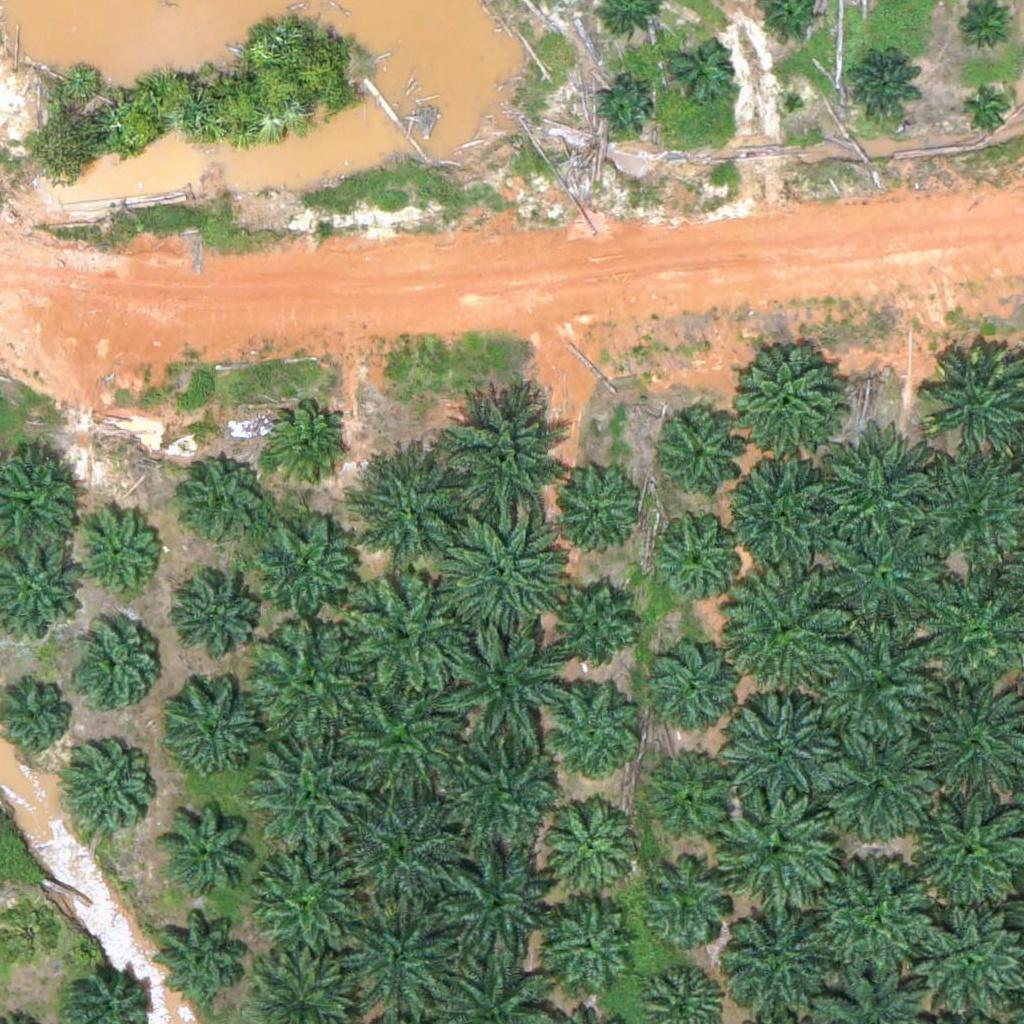Kelapa_Sawit: (811, 856, 936, 982), (818, 623, 943, 749), (823, 515, 948, 641), (817, 435, 942, 561), (721, 455, 846, 581), (720, 684, 845, 810), (716, 789, 841, 915), (430, 838, 555, 964), (443, 388, 568, 514), (438, 509, 563, 635), (439, 621, 564, 747), (443, 736, 568, 862), (352, 444, 477, 570), (347, 569, 472, 695), (340, 672, 465, 798), (341, 785, 466, 911), (337, 893, 462, 1019), (249, 618, 374, 744), (815, 726, 940, 851), (732, 566, 857, 691), (726, 341, 839, 455), (251, 835, 363, 948), (251, 734, 363, 847), (544, 686, 644, 787), (539, 796, 639, 897), (536, 896, 636, 997), (259, 516, 359, 617), (155, 797, 255, 898), (154, 904, 254, 1005), (546, 457, 646, 557), (160, 678, 260, 778), (640, 855, 728, 943), (651, 636, 739, 724), (181, 457, 269, 545), (74, 512, 162, 600), (71, 625, 159, 713), (63, 748, 151, 836), (651, 754, 738, 842), (658, 513, 745, 601), (657, 414, 744, 502), (551, 586, 638, 674), (261, 400, 348, 488), (175, 576, 262, 664), (845, 46, 920, 122), (659, 33, 734, 109), (591, 78, 654, 141), (958, 3, 1008, 53), (964, 84, 1014, 134)
